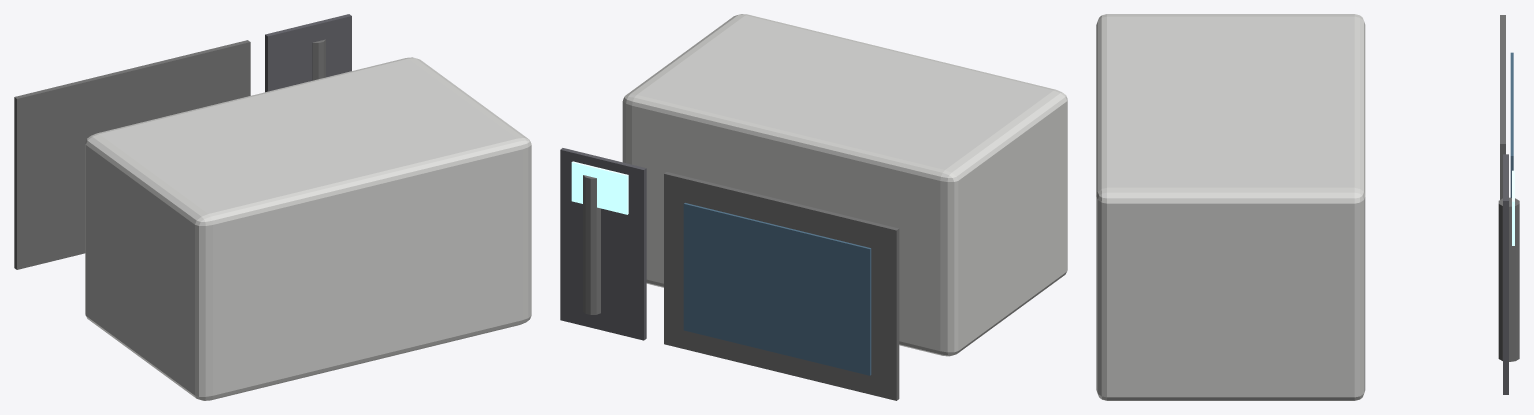
Rendered from microwave.fbx.
3 views of the same model, side by side, from view 1: azimuth 30°, elevation 25°; view 2: azimuth 150°, elevation 25°; view 3: azimuth 270°, elevation 25° (orthographic). The views are drawn at different scales.
Visible parts, largest first — view 1: MW_Body, MW_Door, MW_Panel, MW_Handle; view 2: MW_Body, MW_Glass, MW_Door, MW_Panel, MW_Handle, MW_Display; view 3: MW_Body, MW_Handle, MW_Panel, MW_Door, MW_Glass.
Boxes of the visible parts, bbox=[...] form: MW_Body: bbox=[85, 57, 531, 400]; MW_Door: bbox=[14, 40, 250, 269]; MW_Panel: bbox=[265, 14, 351, 92]; MW_Handle: bbox=[312, 39, 325, 80]; MW_Body: bbox=[622, 14, 1067, 356]; MW_Glass: bbox=[683, 203, 871, 375]; MW_Door: bbox=[664, 172, 899, 400]; MW_Panel: bbox=[560, 148, 646, 340]; MW_Handle: bbox=[583, 175, 600, 314]; MW_Display: bbox=[571, 161, 628, 214]; MW_Body: bbox=[1096, 14, 1365, 400]; MW_Handle: bbox=[1498, 197, 1519, 361]; MW_Panel: bbox=[1503, 154, 1508, 394]; MW_Door: bbox=[1500, 15, 1505, 199]; MW_Glass: bbox=[1510, 52, 1513, 197].
Size of the model in its own units: 73 by 38 by 69.21.
